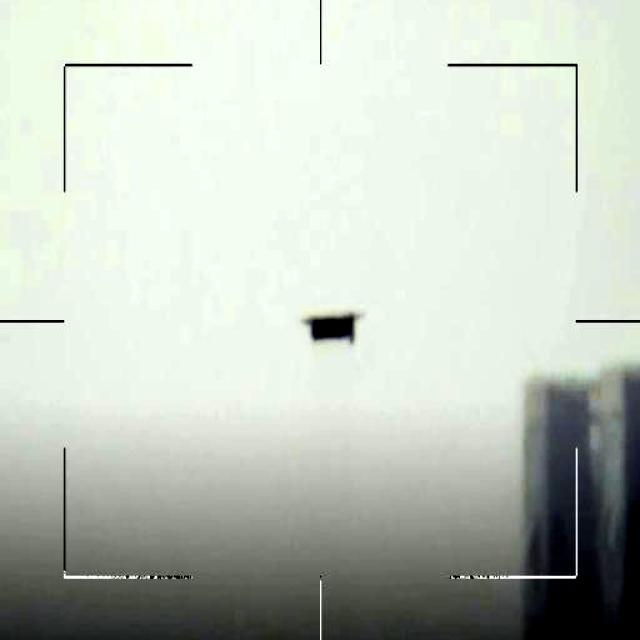bird: (305, 308, 361, 348)
